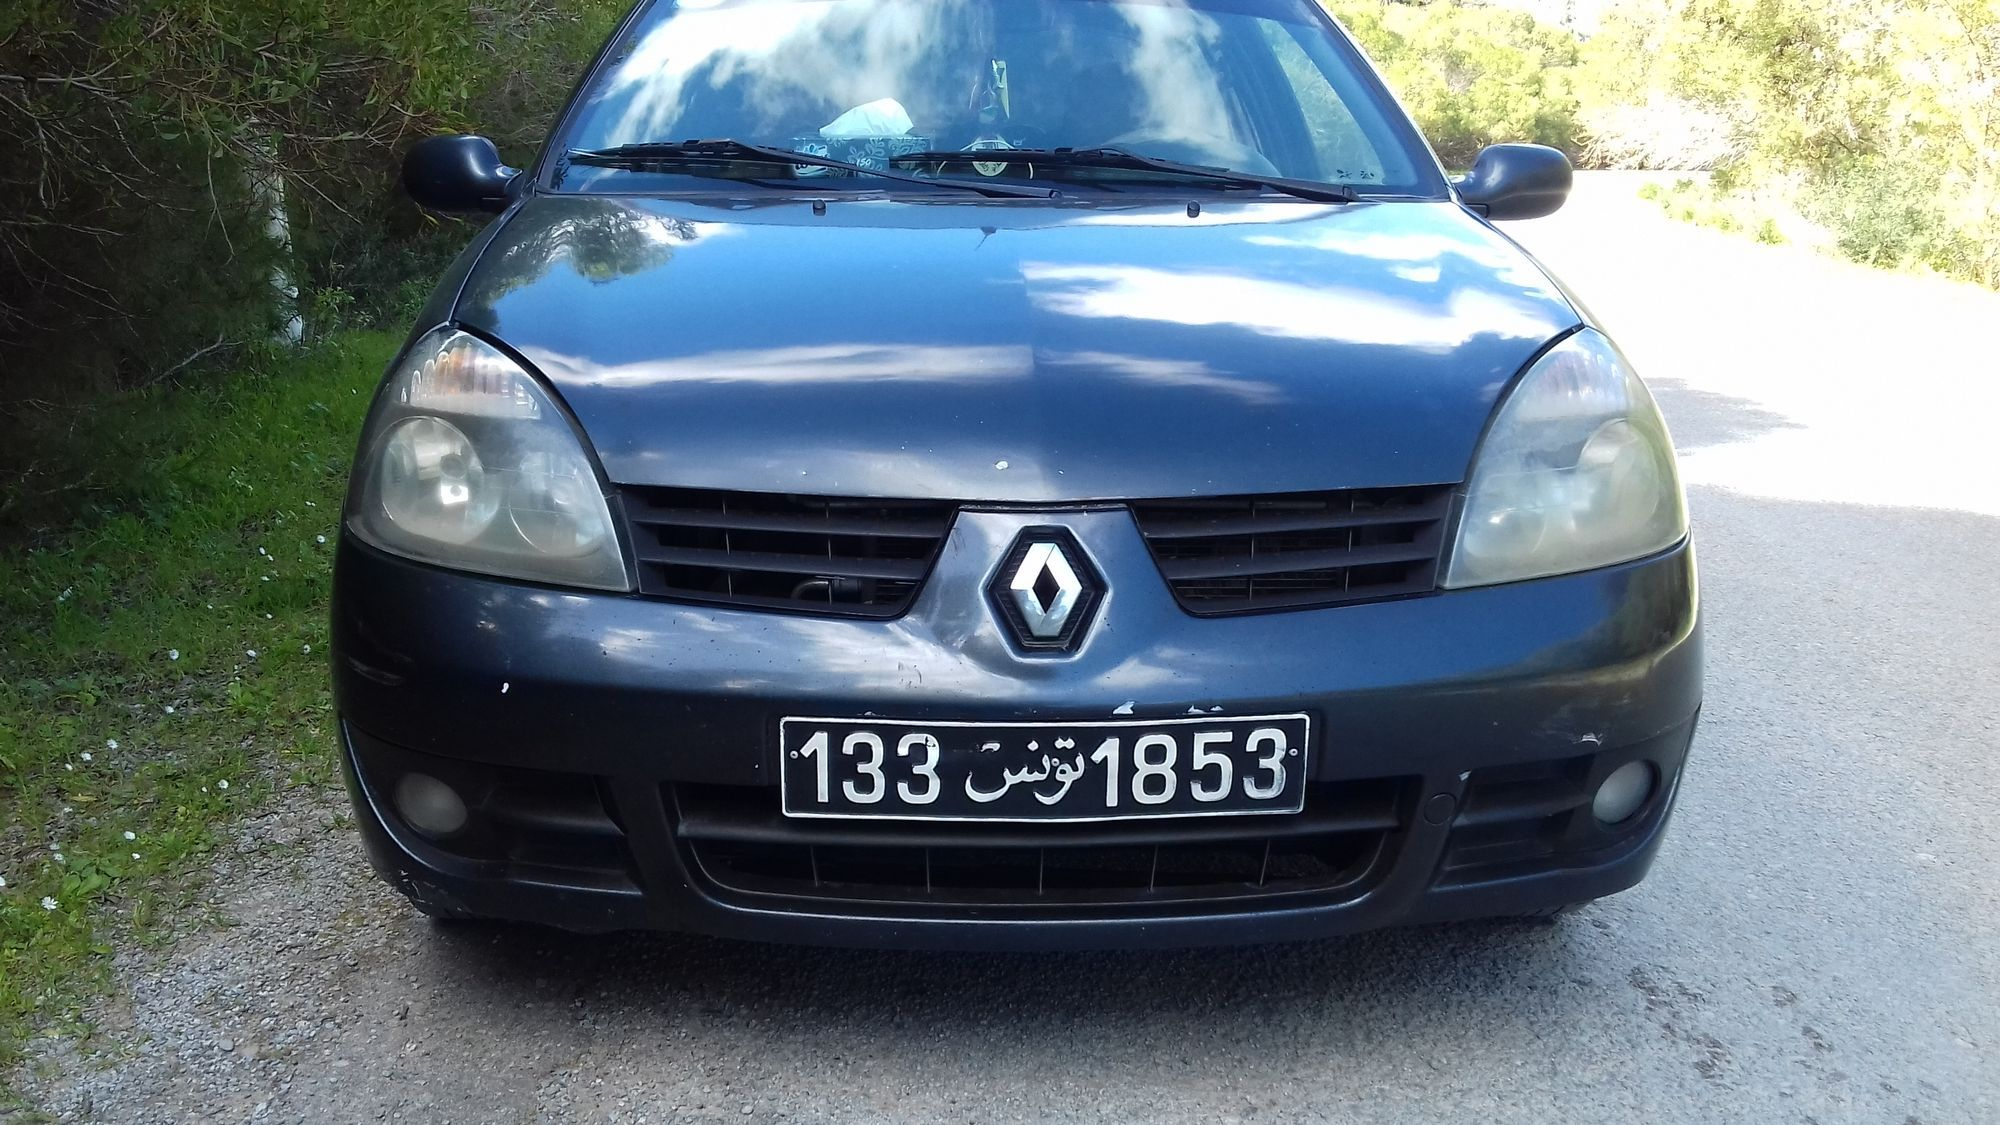LP: (770, 706, 1319, 822)
